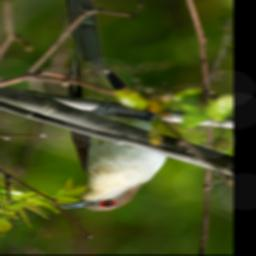Cuckoo: (56, 0, 172, 213)
